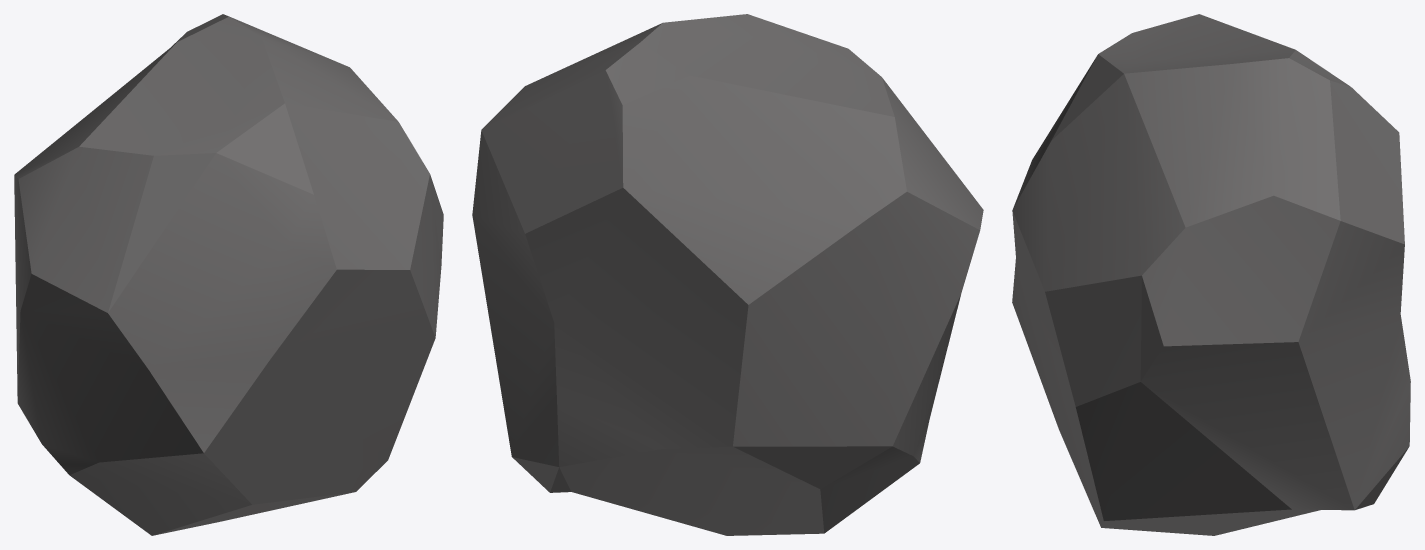
File: RockE.fbx
3 views of the same model, side by side, from view 1: azimuth 30°, elevation 25°; view 2: azimuth 150°, elevation 25°; view 3: azimuth 270°, elevation 25° (orthographic). The views are drawn at different scales.
Visible parts, largest first — view 1: RockE; view 2: RockE; view 3: RockE.
Boxes of the visible parts, x1,y1,x2,y2 form: RockE: [14, 14, 443, 535]; RockE: [472, 14, 983, 535]; RockE: [1012, 14, 1410, 535].
Bounding box in the file's own units: 273 × 297 × 214.
